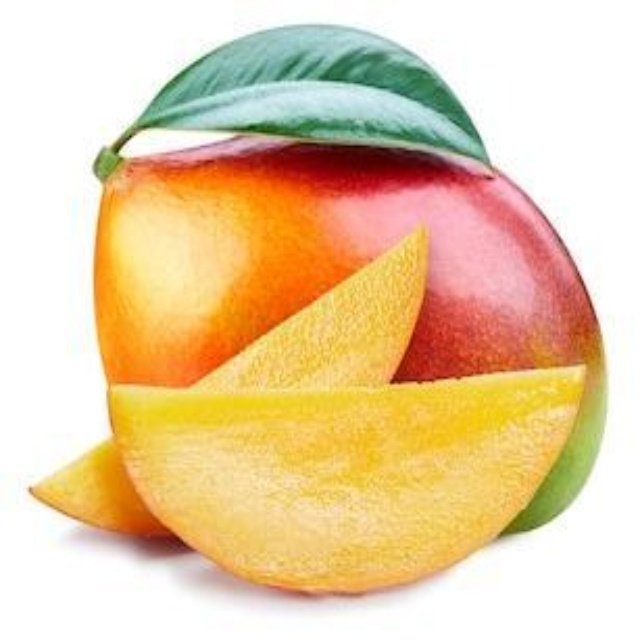mango: (33, 125, 608, 586)
